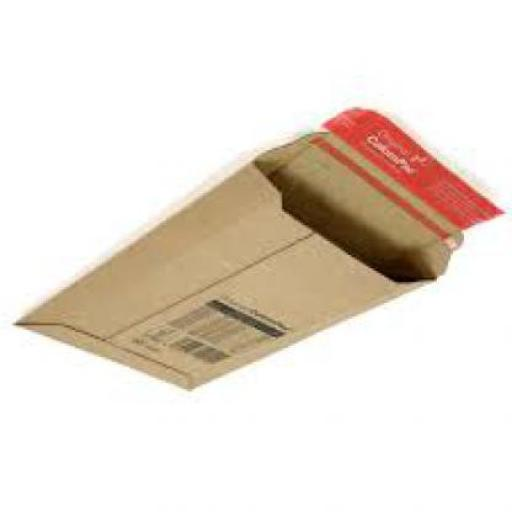cardboard: (18, 111, 510, 394)
